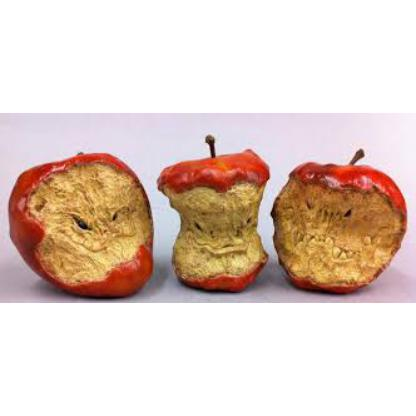damaged_apple: (6, 150, 156, 294), (274, 161, 406, 293), (155, 154, 270, 290)
